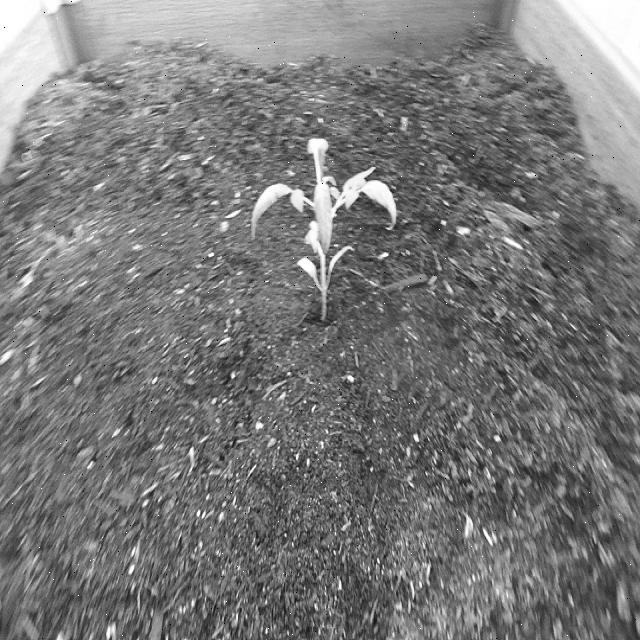Healthy: (244, 131, 408, 331)
